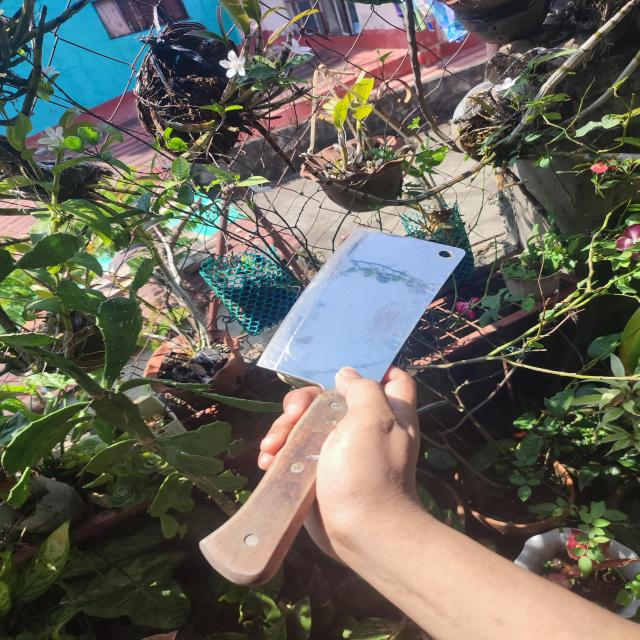knife: (177, 227, 465, 583)
